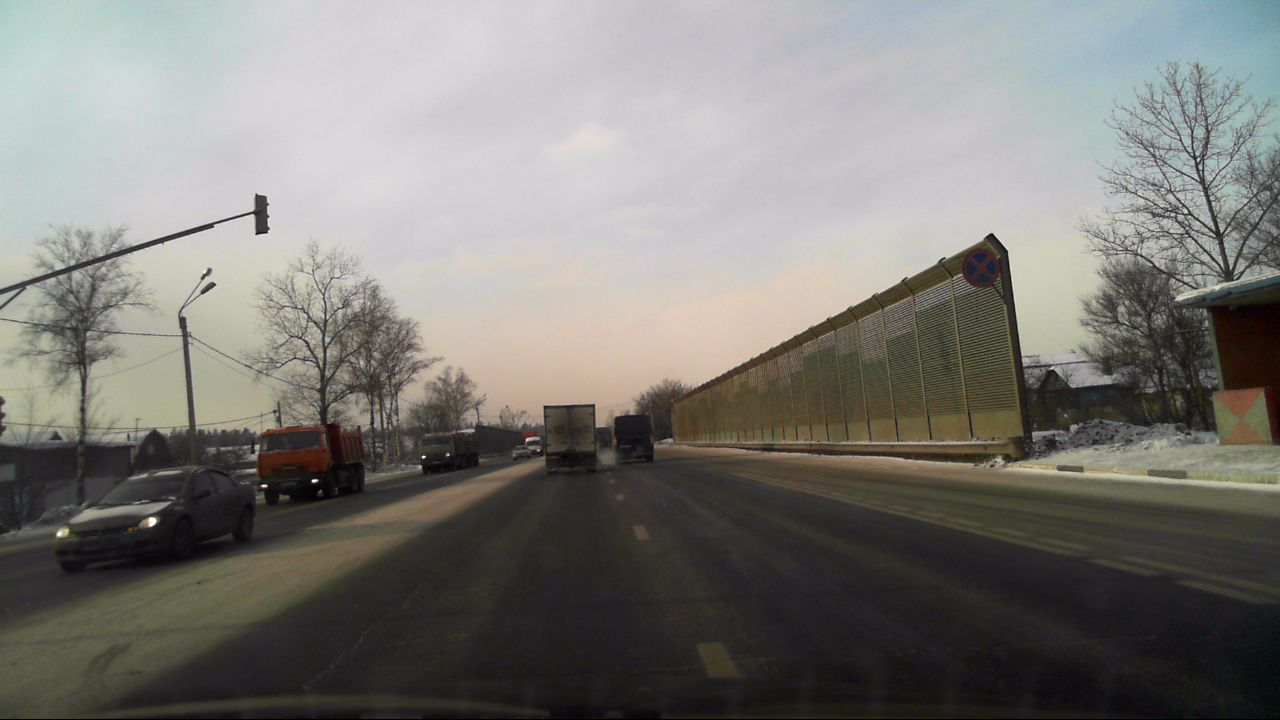No Parking: (962, 249, 999, 288)
